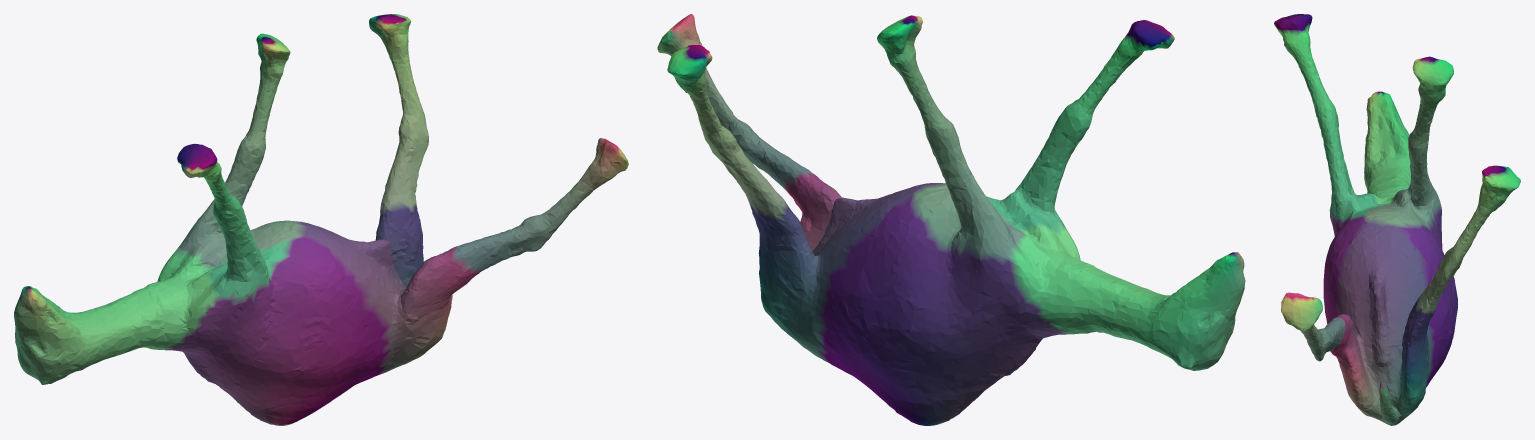
The model's file is camel-17.off.obj.
3 renders of one model, left to right at view 1: azimuth 30°, elevation 25°; view 2: azimuth 150°, elevation 25°; view 3: azimuth 270°, elevation 25°, orthographic. The views are drawn at different scales.
Bounding box in the file's own units: 1.66 × 1.05 × 0.6654.
